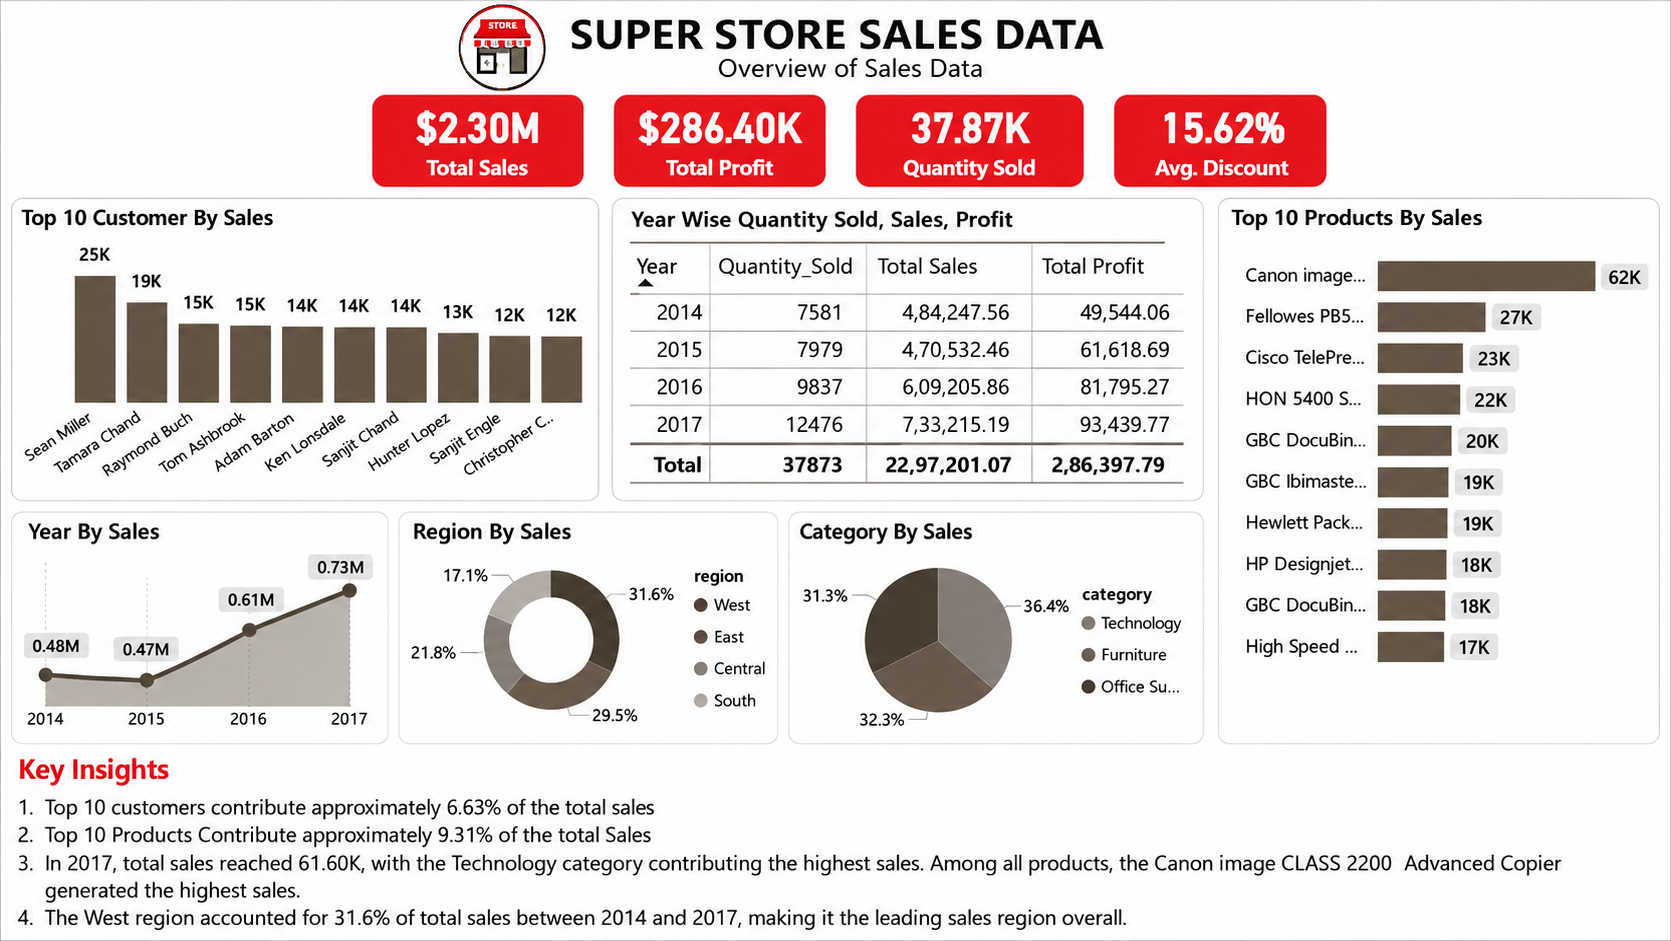

The dashboard page shown, as its layout file describes it:
{"tool":"powerbi","page":{"name":"Overview","canvas":[1280,720],"ordinal":0},"visuals":[{"type":"image","box":[325.9,0,105.8,70.6],"z":0},{"type":"textbox","box":[416.6,0,445.1,65.5],"z":1000},{"type":"card","fields":{"Values":["public superstore_data.Total Sales"]},"box":[278.9,70,158.3,71.7],"z":2000},{"type":"card","fields":{"Values":["public superstore_data.Total Profit"]},"box":[458.2,69.7,156.9,71.6],"z":3000},{"type":"card","fields":{"Values":["public superstore_data.Quantity_Sold"]},"box":[634.4,69.7,156.9,71.6],"z":4000},{"type":"card","fields":{"Values":["public superstore_data.Avg_Discount"]},"box":[810.5,68.4,156.9,71.6],"z":5000},{"type":"textbox","box":[532.5,25.2,263.7,45.4],"z":6000},{"type":"clusteredBarChart","title":"Top 10 Products  By Sales","fields":{"Category":["Top 10 Product Wise Sales.product_name"],"Y":["Sum(Top 10 Product Wise Sales.total_sales)"]},"box":[908.6,147.1,361.4,411.4],"z":7000},{"type":"lineChart","title":"Year By Sales","fields":{"Y":["public superstore_data.Total Sales"],"Category":["public superstore_data.order_date.Variation.Date Hierarchy.Year"]},"box":[8.6,382.9,272.9,175.7],"z":8000},{"type":"pieChart","title":"Category By Sales","fields":{"Y":["Sum(Category Wise Sales.total_sales)"],"Category":["Category Wise Sales.category"]},"box":[597.1,382.9,300,175.7],"z":9000},{"type":"donutChart","title":"Region By Sales","fields":{"Category":["public superstore_data.region"],"Y":["public superstore_data.Total Sales"]},"box":[292.9,382.9,294.3,175.7],"z":10000},{"type":"clusteredColumnChart","title":"Top 10 Customer By Sales ","fields":{"Category":["public superstore_data.customer_name"],"Y":["public superstore_data.Total Sales"]},"box":[8.6,151.4,450,221.4],"z":11000},{"type":"tableEx","title":"Year Wise Quantity Sold, Sales, Profit","fields":{"Values":["public superstore_data.order_date.Variation.Date Hierarchy.Year","public superstore_data.Quantity_Sold","public superstore_data.Total Sales","public superstore_data.Total Profit"]},"box":[468.1,150.8,429.4,221.6],"z":12000},{"type":"textbox","box":[7.1,542.9,1252.9,177.1],"z":13000}]}

Visuals, with their boxes in screenshot pixels (x1, y1, x2, y2), scaled from the page's 1280x720 canvas onto the 1671x941 screenshot:
image: bbox(425, 0, 564, 92)
textbox: bbox(544, 0, 1125, 86)
card - public superstore_data.Total Sales: bbox(364, 91, 571, 185)
card - public superstore_data.Total Profit: bbox(598, 91, 803, 185)
card - public superstore_data.Quantity_Sold: bbox(828, 91, 1033, 185)
card - public superstore_data.Avg_Discount: bbox(1058, 89, 1263, 183)
textbox: bbox(695, 33, 1039, 92)
"Top 10 Products  By Sales" clusteredBarChart: bbox(1186, 192, 1658, 730)
"Year By Sales" lineChart: bbox(11, 500, 367, 730)
"Category By Sales" pieChart: bbox(779, 500, 1171, 730)
"Region By Sales" donutChart: bbox(382, 500, 767, 730)
"Top 10 Customer By Sales " clusteredColumnChart: bbox(11, 198, 599, 487)
"Year Wise Quantity Sold, Sales, Profit" tableEx: bbox(611, 197, 1172, 487)
textbox: bbox(9, 710, 1645, 940)
